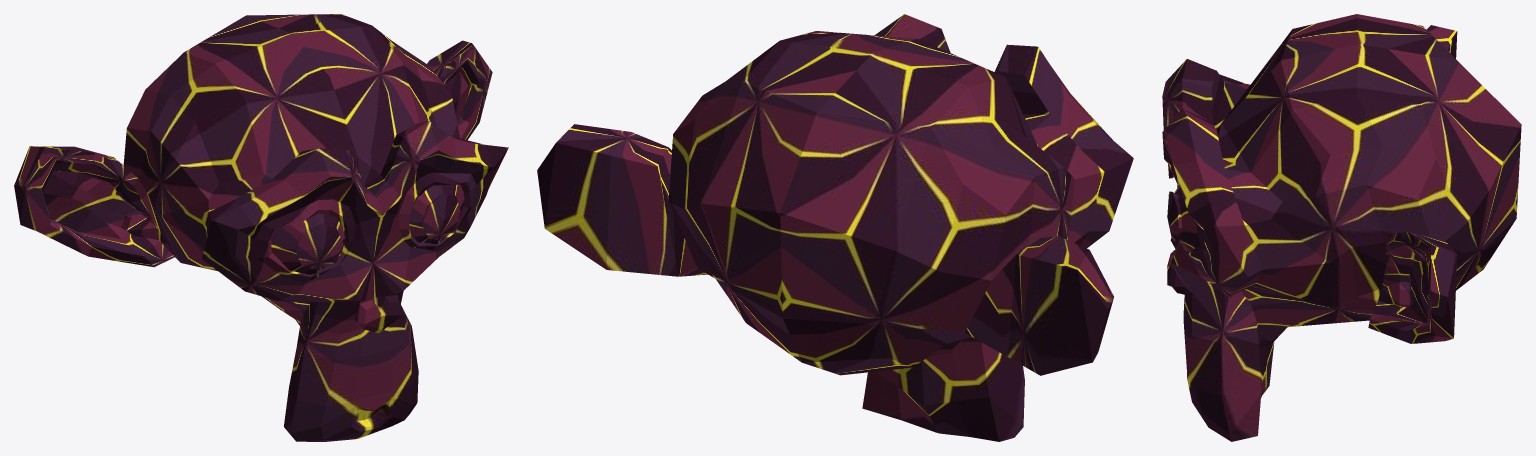
The model's file is suzanne.glb.
3 views of the same model, side by side, from view 1: azimuth 30°, elevation 25°; view 2: azimuth 150°, elevation 25°; view 3: azimuth 270°, elevation 25° (orthographic). The views are drawn at different scales.
Visible parts, largest first — view 1: Suzanne; view 2: Suzanne; view 3: Suzanne.
Boxes of the visible parts, bbox=[...] form: Suzanne: bbox=[14, 14, 508, 441]; Suzanne: bbox=[537, 14, 1133, 441]; Suzanne: bbox=[1162, 14, 1521, 441].
Bounding box in the file's own units: 2.73 × 1.97 × 1.7.
1 material, 1 textured.
